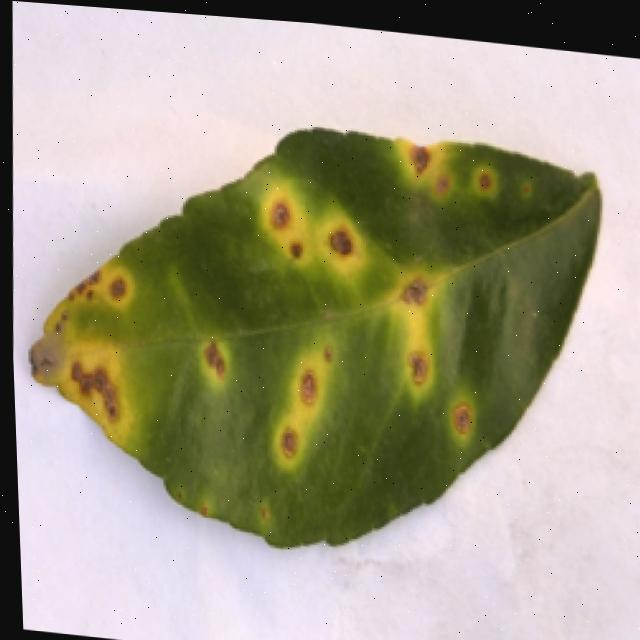canker: (32, 132, 598, 542), (14, 250, 139, 451), (263, 331, 349, 484), (383, 131, 543, 212), (373, 258, 455, 416), (254, 172, 373, 280), (192, 326, 237, 394), (443, 390, 477, 445)
